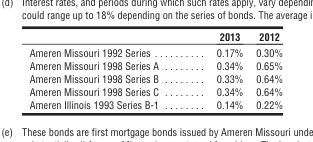table: (28, 29, 282, 110)
table column: (28, 29, 186, 110), (186, 29, 248, 110), (248, 29, 282, 110)
table column header: (28, 29, 282, 44)
table row: (28, 29, 282, 44), (28, 44, 282, 59), (28, 59, 282, 72), (28, 84, 282, 97), (28, 97, 282, 110), (28, 72, 282, 84)
